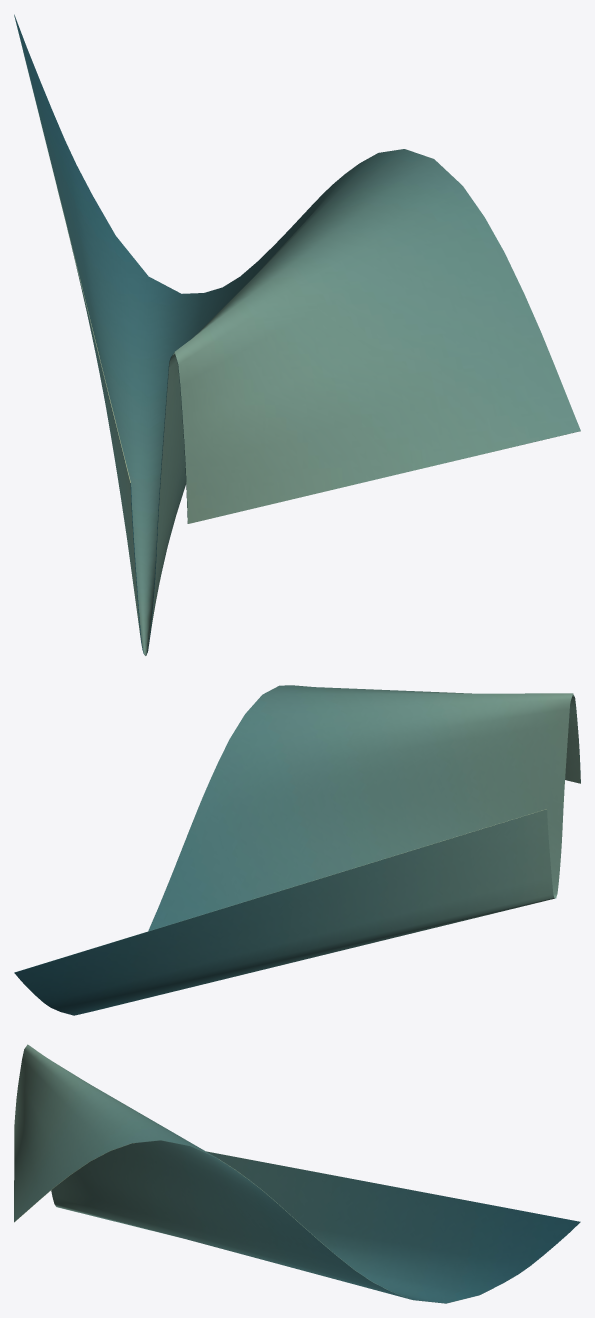
Rendered from recorrido.fbx.
3 renders of one model, top to bottom at view 1: azimuth 30°, elevation 25°; view 2: azimuth 150°, elevation 25°; view 3: azimuth 270°, elevation 25°, orthographic. The views are drawn at different scales.
Parts seen in each view (by area): view 1: y_senkx_k_mayor_1_recorrido:Mesh; view 2: y_senkx_k_mayor_1_recorrido:Mesh; view 3: y_senkx_k_mayor_1_recorrido:Mesh.
Part boxes in pixels (x1,y1,x2,y2): y_senkx_k_mayor_1_recorrido:Mesh: (14,14,580,655); y_senkx_k_mayor_1_recorrido:Mesh: (14,685,580,1015); y_senkx_k_mayor_1_recorrido:Mesh: (14,1044,580,1303).
Bounding box in the file's own units: 18.41 × 14.64 × 45.97.
